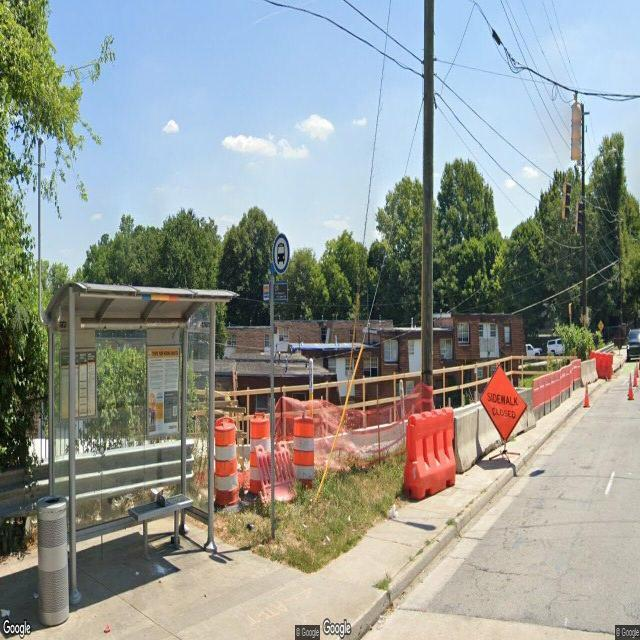seating: (130, 491, 192, 552)
shelter: (44, 281, 240, 607)
trash_can: (37, 496, 69, 628)
